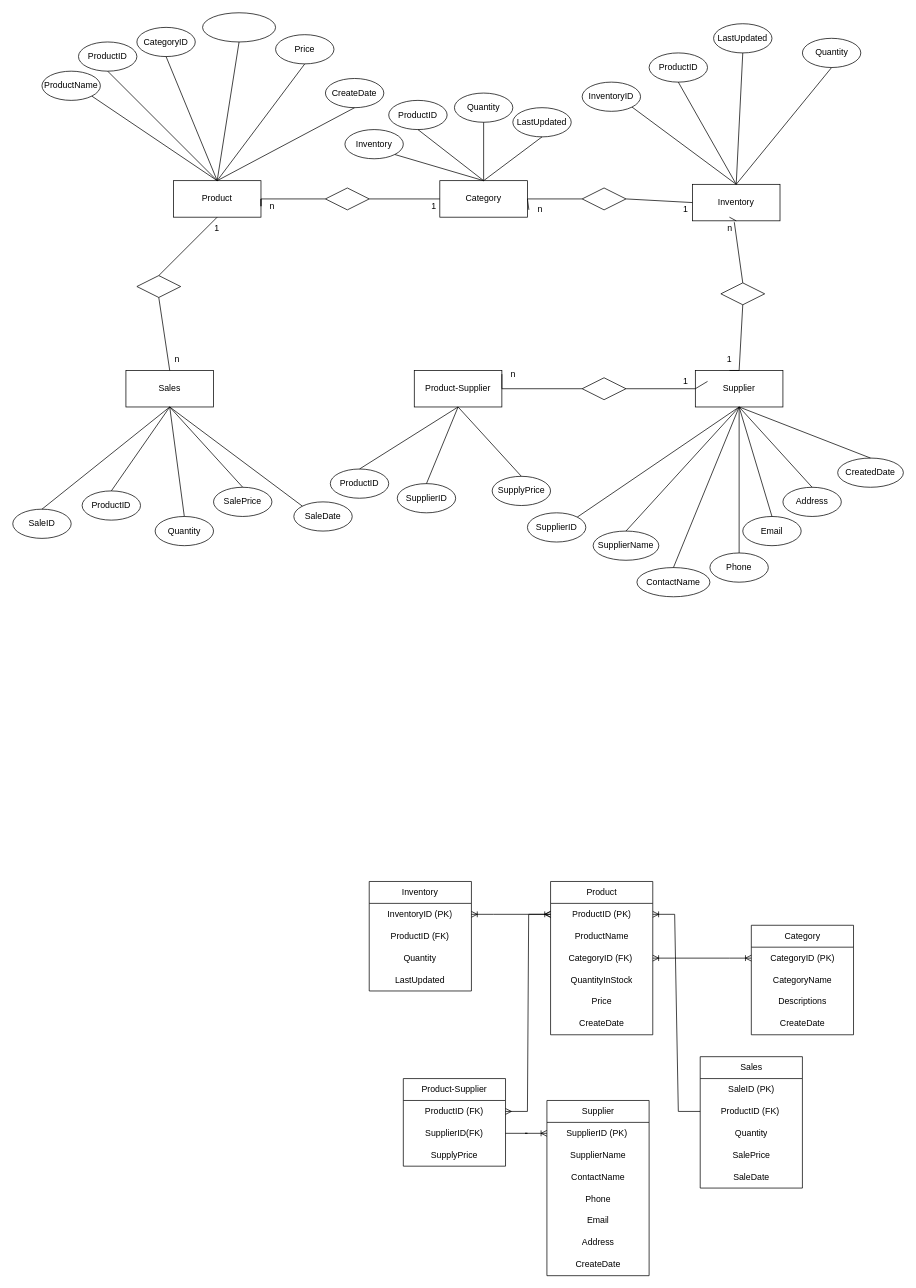
Some shapes in this 916 by 1288 pixel diagram are drawn without their labels. Here are the shapes that lost their labels. From the top down, the box of each, then its label:
(202, 12, 276, 42): QuantityinStoke
(325, 187, 369, 210): have
(581, 187, 626, 210): in
(136, 275, 181, 297): for
(720, 282, 765, 305): produce
(581, 377, 626, 400): saved
